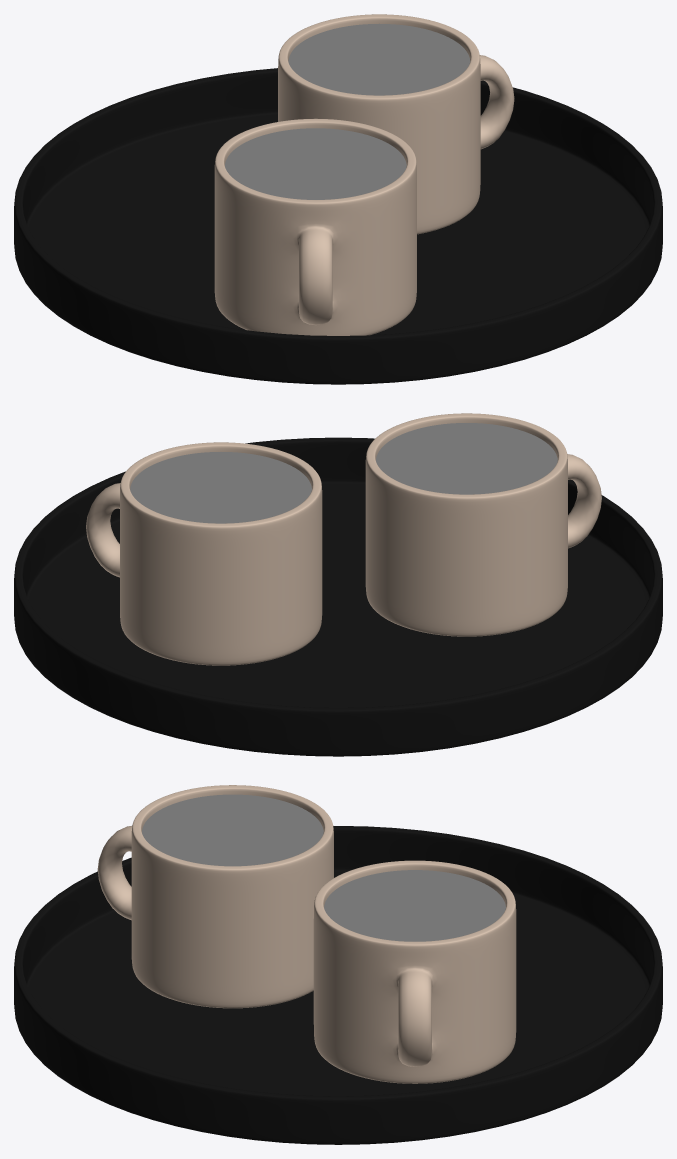
Rendered from Coffe.FBX.
The picture shows the model from 3 angles, top to bottom: view 1: azimuth 30°, elevation 25°; view 2: azimuth 150°, elevation 25°; view 3: azimuth 270°, elevation 25°; orthographic projection.
Parts seen in each view (by area): view 1: Podnos, Chashka001, Chashka, Penka, Penka001; view 2: Podnos, Chashka001, Chashka, Penka001, Penka; view 3: Podnos, Chashka001, Chashka, Penka, Penka001.
Boxes of the visible parts, x1,y1,x2,y2 form: Podnos: (14, 68, 662, 384); Chashka001: (214, 118, 416, 335); Chashka: (278, 14, 514, 234); Penka: (288, 23, 470, 95); Penka001: (225, 128, 406, 199); Podnos: (14, 437, 662, 756); Chashka001: (365, 413, 601, 636); Chashka: (86, 442, 322, 665); Penka001: (376, 423, 557, 494); Penka: (130, 452, 311, 523); Podnos: (14, 826, 662, 1144); Chashka001: (97, 785, 333, 1008); Chashka: (313, 860, 516, 1083); Penka: (324, 870, 505, 941); Penka001: (142, 794, 323, 866).
Bounding box in the file's own units: 252 × 62.06 × 252.
